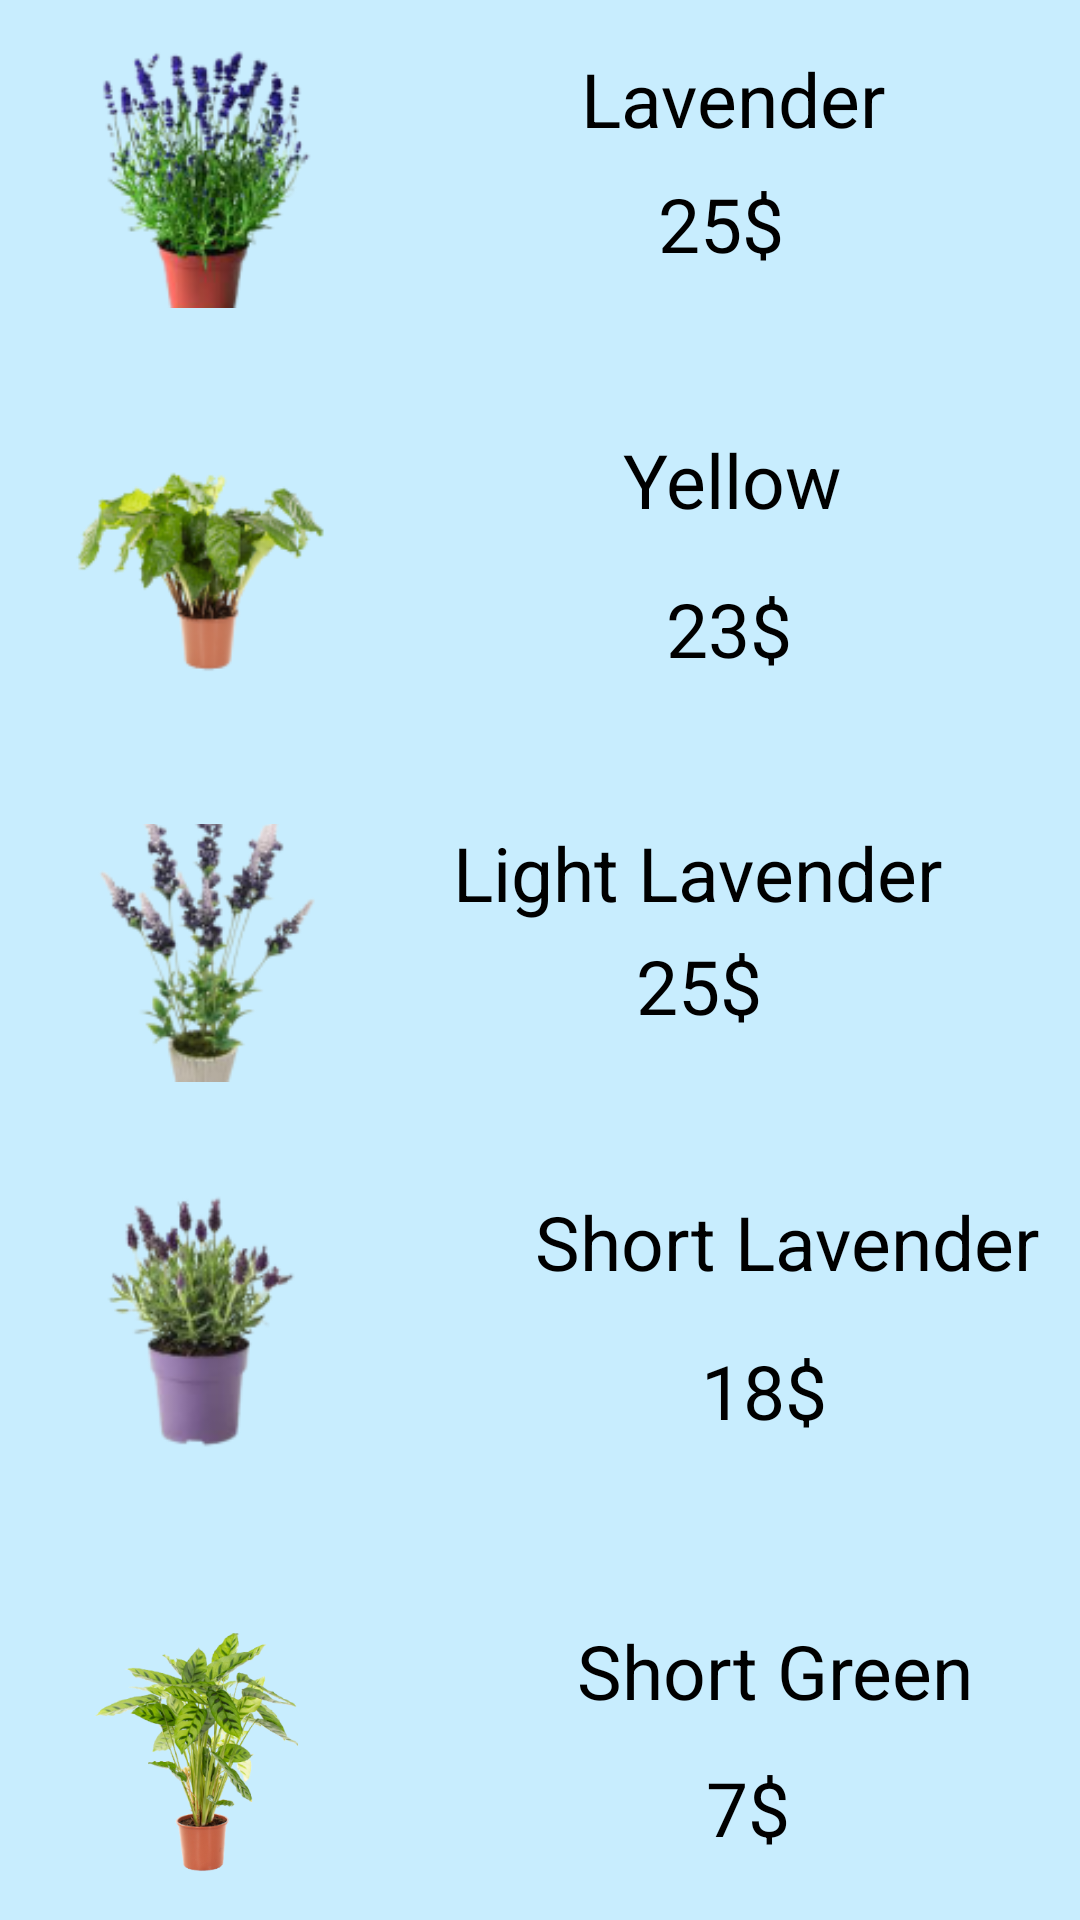

Icons on this 1080*1920 Android screen, each with the point to tap as (x,y):
cay: (206,179), (200,571), (207,953), (201,1322), (197,1752)
